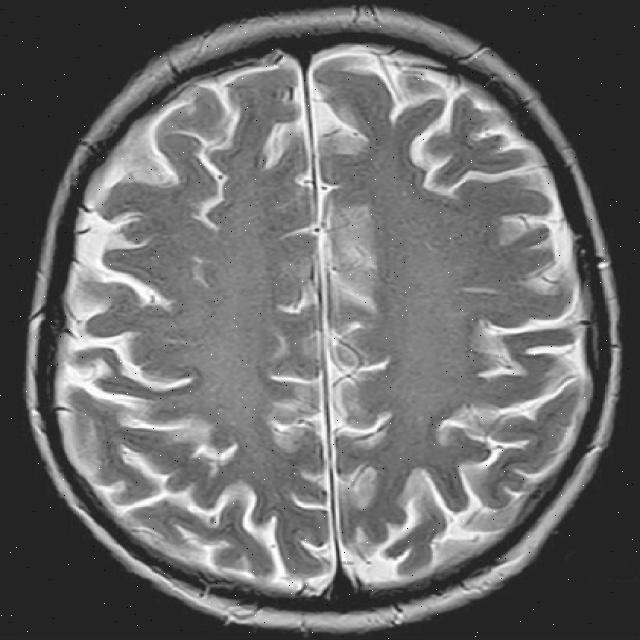No_Tumor: (25, 9, 619, 631)
